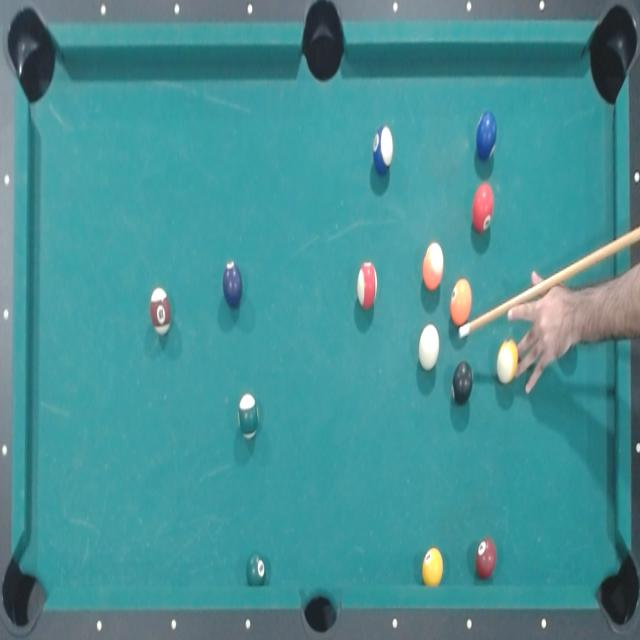black_8ball: (450, 359, 474, 406)
blue_solid: (474, 109, 498, 161)
blue_stripe: (370, 123, 395, 177)
cue_ball: (418, 321, 441, 372)
cue_body: (471, 205, 640, 346)
cue_tip: (458, 319, 471, 342)
green_solid: (244, 548, 268, 588)
green_stripe: (234, 392, 260, 441)
maroon_solid: (474, 536, 497, 580)
maroon_stripe: (148, 284, 172, 338)
orange_solid: (448, 276, 473, 326)
orange_stripe: (420, 240, 444, 292)
player_hand: (505, 268, 581, 400)
purple_solid: (220, 258, 244, 309)
red_solid: (470, 183, 494, 233)
red_stripe: (354, 260, 379, 311)
yellow_solid: (420, 545, 444, 588)
yellow_stripe: (496, 338, 519, 387)
